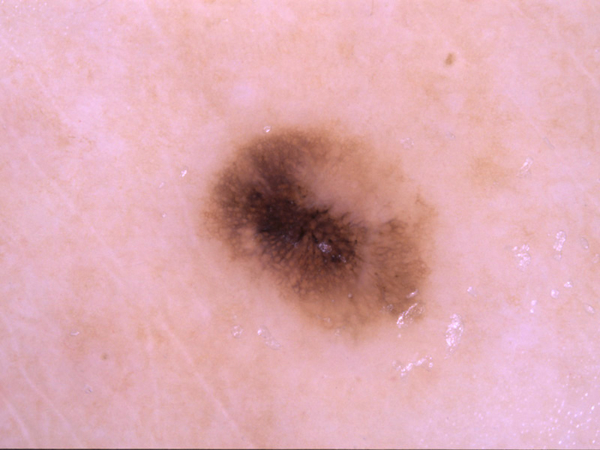Detected Lesion: (196, 124, 443, 339)
